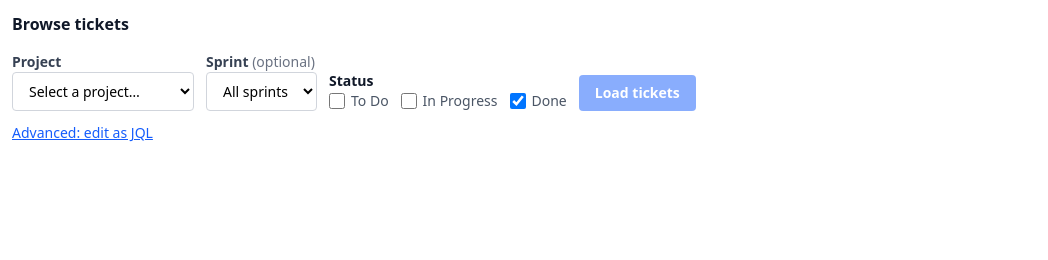
Test: TicketsRoute › anEmptyResultRendersTheNamedScopeHint
Select "CNV — Convergence" in the dropdown labelled "Project" at (103, 92), box [12,72,194,111]
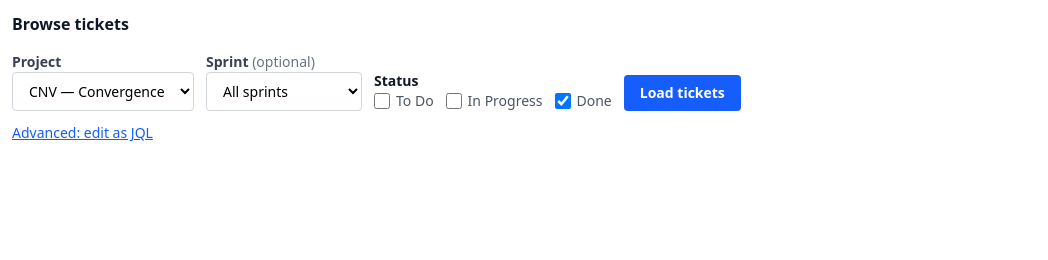
Click the button "Load tickets" at (682, 93), box [624,75,741,111]
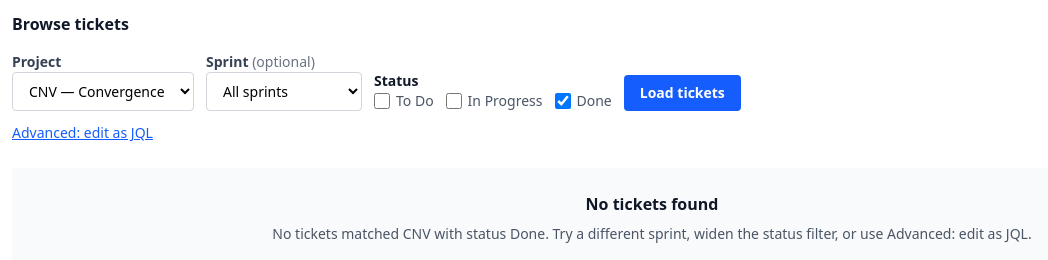
expect the text "No tickets found" is shown: met, box [586,193,718,215]
expect the text "CNV" is shown: met, box [272,224,1032,243]
expect the text "with status Done" is shown: met, box [272,224,1032,243]
